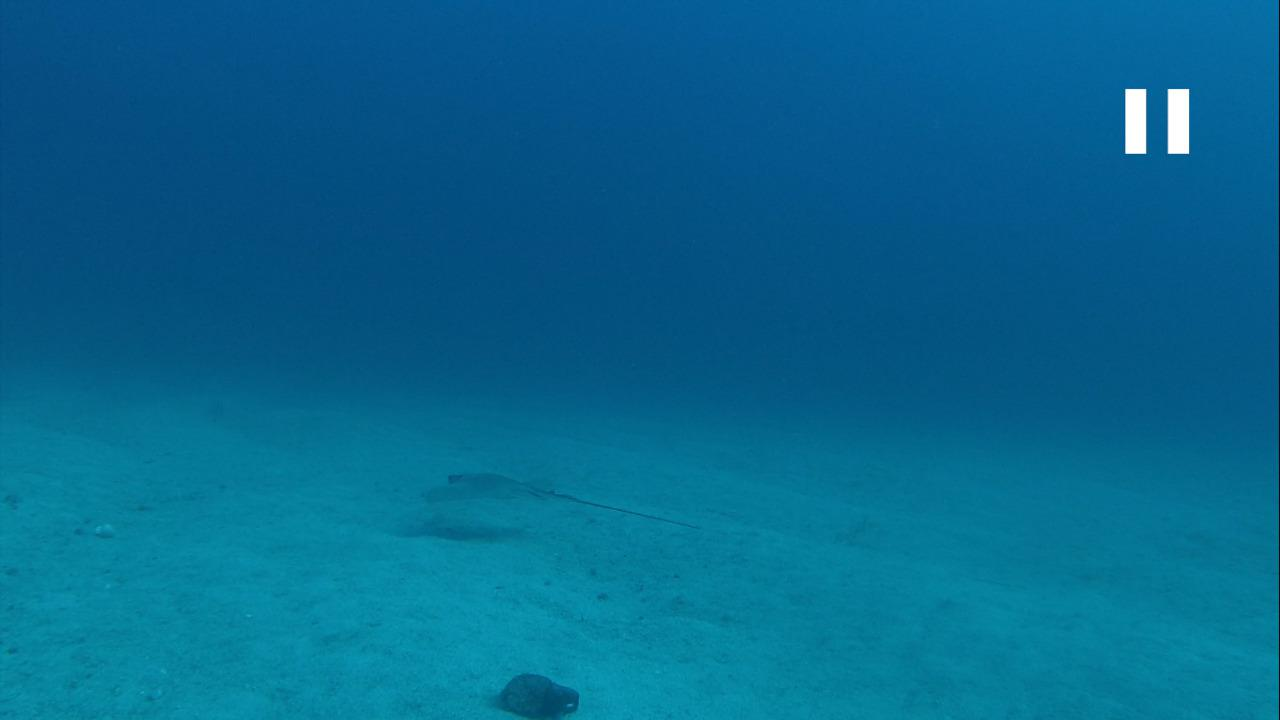myliobatis: (411, 461, 701, 533)
